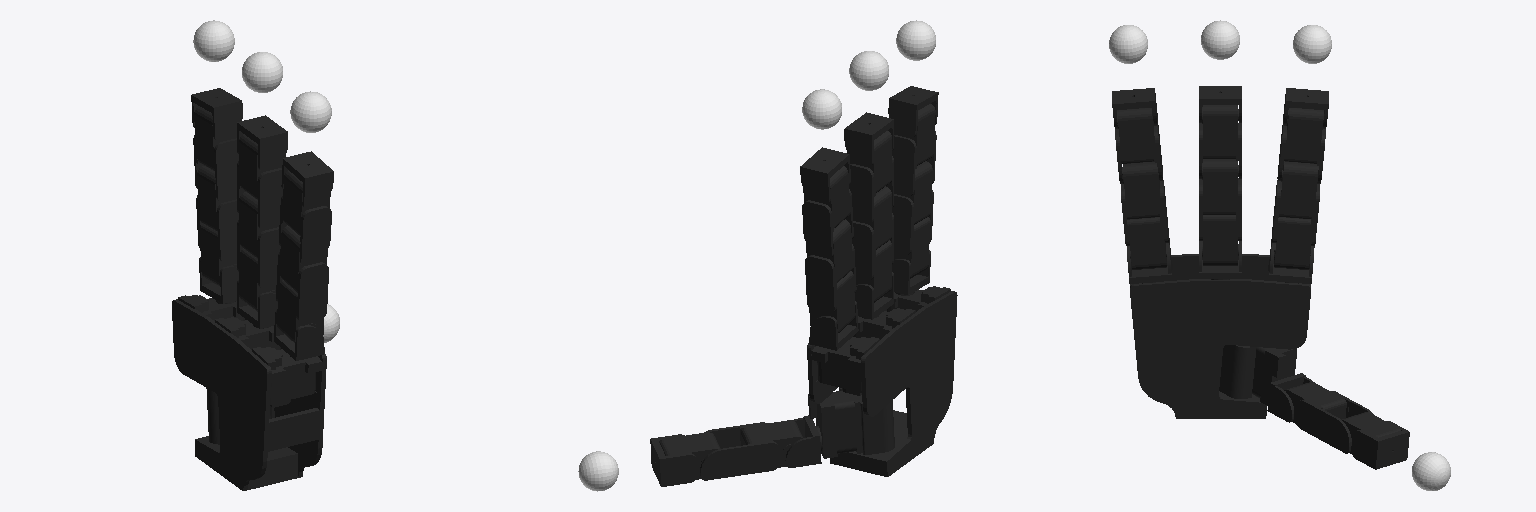
URDF robot description (allegro_hand_right):
<?xml version="1.0" ?>
<!-- =================================================================================== -->
<!-- |    This document was autogenerated by xacro from allegro_hand_description_right.xacro | -->
<!-- |    EDITING THIS FILE BY HAND IS NOT RECOMMENDED                                 | -->
<!-- =================================================================================== -->
<robot name="allegro_hand_right" xmlns:xacro="http://www.ros.org/wiki/xacro">
  <!-- ======================== BASE PARAMS ========================= -->
  <!-- ======================== FINGER PARAMS ======================== -->
  <!-- full height from joint to tip. when used,
the radius of the finger tip sphere will be subtracted
and one fixed link will be added for the tip. -->
  <!--0.0435,   0.044981-->
  <!--0.002298-->
  <!--0.002298-->
  <!-- ========================= THUMB PARAMS ========================= -->
  <!-- ========================= LIMITS ========================= -->
  <!-- ============================================================================= -->
  <!-- BASE -->
  <link name="base_link">
    <visual>
      <geometry>
        <mesh filename="allegro/meshes/allegro/base_link.obj"/>
      </geometry>
      <!-- LEFT -->
      <!-- <origin rpy="${-90*DEG2RAD} 0 0" xyz="0 0 0 "/> -->
      <!-- RIGHT -->
      <origin rpy="0 0 0" xyz="0 0 0 "/>
      <material name="black">
        <color rgba="0.2 0.2 0.2 1"/>
      </material>
    </visual>
    <collision>
      <origin rpy="0 0 0" xyz="-0.009300 0 -0.0475"/>
      <geometry>
        <!-- <box size="0.0408 0.1130 0.095"/> -->
        <box size="0.01 0.01 0.01"/>
      </geometry>
    </collision>
    <inertial>
      <origin xyz="0 0 0.0475" rpy="0 0 0"/>
      <mass value="0.4154"/>
      <inertia
          ixx="1e-4" ixy="0.0" ixz="0.0"
          iyy="1e-4" iyz="0.0"
          izz="1e-4"/>
      </inertial>
  </link>
  <!-- ============================================================================= -->
  <!-- FINGERS -->
  <!-- RIGHT HAND due to which finger is number 0 -->
  <!-- for LEFT HAND switch the sign of the **offset_origin_y** and **finger_angle_r** parameters-->
  <link name="link_0.0">
    <visual>
      <geometry>
        <mesh filename="allegro/meshes/allegro/link_0.0.obj"/>
      </geometry>
      <material name="black"/>
    </visual>
    <collision>
      <geometry>
        <box size="0.0196 0.0275 0.0164"/>
      </geometry>
      <origin rpy="0 0 0" xyz="0 0 0.0082"/>
    </collision>
    <inertial>
      <mass value="0.0119" />
      <origin xyz="0 0 0" rpy="0 0 0"/>
      <inertia ixx="1.01666658333e-06" ixy="0.0" ixz="0.0"
               iyy="6.47677333333e-07" iyz="0.0"
               izz="1.01666658333e-06" />
    </inertial>
  </link>
  <joint name="joint_0.0" type="revolute">
    <axis xyz="0 0 1"/>
    <limit effort="0.35" lower="-0.47" upper="0.47" velocity="6.283"/>
    <parent link="base_link"/>
    <child link="link_0.0"/>
    <origin rpy="-0.08726646255 0 0" xyz="0 0.0435 -0.001542"/>
  </joint>
  <link name="link_1.0">
    <visual>
      <geometry>
        <mesh filename="allegro/meshes/allegro/link_1.0.obj"/>
      </geometry>
      <material name="black"/>
    </visual>
    <collision>
      <geometry>
        <box size="0.0196 0.0275 0.054"/>
      </geometry>
      <origin rpy="0 0 0" xyz="0 0 0.027"/>
    </collision>
    <inertial>
      <mass value="0.065" />
      <origin xyz="0 0 0" rpy="0 0 0"/>
      <inertia ixx="7.95654166667e-05" ixy="1.7199e-05" ixz="8.75875e-06"
               iyy="2.47088833333e-05" iyz="2.413125e-05"
               izz="7.95654166667e-05" />
    </inertial>
  </link>
  <joint name="joint_1.0" type="revolute">
    <limit effort="0.35" lower="-0.196" upper="1.61" velocity="6.283"/>
    <axis xyz="0 1 0"/>
    <parent link="link_0.0"/>
    <child link="link_1.0"/>
    <origin xyz="0 0 0.0164"/>
  </joint>
  <link name="link_2.0">
    <visual>
      <geometry>
        <mesh filename="allegro/meshes/allegro/link_2.0.obj"/>
      </geometry>
      <material name="black"/>
    </visual>
    <collision>
      <geometry>
        <box size="0.0196 0.0275 0.0384"/>
      </geometry>
      <origin rpy="0 0 0" xyz="0 0 0.0192"/>
    </collision>
    <inertial>
      <mass value="0.0355" />
      <origin xyz="0 0 0" rpy="0 0 0"/>
      <inertia ixx="2.63979183333e-05" ixy="6.67968e-06" ixz="4.783625e-06"
               iyy="1.34948516667e-05" iyz="9.372e-06"
               izz="2.63979183333e-05" />
    </inertial>
  </link>
  <joint name="joint_2.0" type="revolute">
    <axis xyz="0 1 0"/>
    <limit effort="0.35" lower="-0.174" upper="1.709" velocity="6.283"/>
    <parent link="link_1.0"/>
    <child link="link_2.0"/>
    <origin xyz="0 0 0.054"/>
  </joint>
  <link name="link_3.0">
    <visual>
      <geometry>
        <mesh filename="allegro/meshes/allegro/link_3.0.obj"/>
      </geometry>
      <material name="black"/>
    </visual>
    <collision>
      <!--
      <geometry>
        <box size="0.0196 0.0275 0.0267"/>
      </geometry>
      -->
      <geometry>
        <sphere radius="0.0001"/>
      </geometry>
      <origin rpy="0 0 0" xyz="0 0 0.01335"/>
    </collision>
    <inertial>
      <mass value="0.0096" />
      <origin xyz="0 0 0" rpy="0 0 0"/>
      <inertia ixx="4.701248e-06" ixy="1.255968e-06" ixz="1.2936e-06"
               iyy="3.649312e-06" iyz="1.7622e-06"
               izz="4.701248e-06" />
    </inertial>
  </link>
  <joint name="joint_3.0" type="revolute">
    <axis xyz="0 1 0"/>
    <limit effort="0.35" lower="-0.227" upper="1.618" velocity="6.283"/>
    <parent link="link_2.0"/>
    <child link="link_3.0"/>
    <origin xyz="0 0 0.0384"/>
  </joint>
  <link name="link_3.0_tip">
    <visual>
      <geometry>
        <sphere radius="0.01235"/>
      </geometry>
      <!-- z: 0.02 0.05 0.035 0.04 0.038 0.0375 0.037-->
      <origin rpy="0 0 0" xyz="0.000 0.000 0.0368" />
      <material name="white">
        <color rgba=".9 .9 .9 1"/>
      </material>
    </visual>
    <collision>
      <geometry>
        <sphere radius="0.01235"/>
      </geometry>
      <!-- z: 0.02 0.05 0.035 0.04 0.038 0.0375 0.037-->
      <origin rpy="0 0 0" xyz="0.000 0.000 0.0368" />
    </collision>
    <inertial>
      <mass value="0.0168" />
      <origin xyz="0 0 0" rpy="0 0 0"/>
      <inertia ixx="9.68e-07" ixy="0" ixz="0"
               iyy="9.68e-07" iyz="0"
               izz="9.68e-07" />
     </inertial>
  </link>
  <joint name="joint_3.0_tip" type="fixed">
    <parent link="link_3.0"/>
    <child link="link_3.0_tip"/>
    <origin rpy="0 0 0" xyz="0 0 0.0147"/>
  </joint>
  <link name="link_4.0">
    <visual>
      <geometry>
        <mesh filename="allegro/meshes/allegro/link_0.0.obj"/>
      </geometry>
      <material name="black"/>
    </visual>
    <collision>
      <geometry>
        <box size="0.0196 0.0275 0.0164"/>
      </geometry>
      <origin rpy="0 0 0" xyz="0 0 0.0082"/>
    </collision>
    <inertial>
      <mass value="0.0119" />
      <origin xyz="0 0 0" rpy="0 0 0"/>
      <inertia ixx="1.01666658333e-06" ixy="0.0" ixz="0.0"
               iyy="6.47677333333e-07" iyz="0.0"
               izz="1.01666658333e-06" />
    </inertial>
  </link>
  <joint name="joint_4.0" type="revolute">
    <axis xyz="0 0 1"/>
    <limit effort="0.35" lower="-0.47" upper="0.47" velocity="6.283"/>
    <parent link="base_link"/>
    <child link="link_4.0"/>
    <origin rpy="0.0 0 0" xyz="0 0 0.0007"/>
  </joint>
  <link name="link_5.0">
    <visual>
      <geometry>
        <mesh filename="allegro/meshes/allegro/link_1.0.obj"/>
      </geometry>
      <material name="black"/>
    </visual>
    <collision>
      <geometry>
        <box size="0.0196 0.0275 0.054"/>
      </geometry>
      <origin rpy="0 0 0" xyz="0 0 0.027"/>
    </collision>
    <inertial>
      <mass value="0.065" />
      <origin xyz="0 0 0" rpy="0 0 0"/>
      <inertia ixx="7.95654166667e-05" ixy="1.7199e-05" ixz="8.75875e-06"
               iyy="2.47088833333e-05" iyz="2.413125e-05"
               izz="7.95654166667e-05" />
    </inertial>
  </link>
  <joint name="joint_5.0" type="revolute">
    <limit effort="0.35" lower="-0.196" upper="1.61" velocity="6.283"/>
    <axis xyz="0 1 0"/>
    <parent link="link_4.0"/>
    <child link="link_5.0"/>
    <origin xyz="0 0 0.0164"/>
  </joint>
  <link name="link_6.0">
    <visual>
      <geometry>
        <mesh filename="allegro/meshes/allegro/link_2.0.obj"/>
      </geometry>
      <material name="black"/>
    </visual>
    <collision>
      <geometry>
        <box size="0.0196 0.0275 0.0384"/>
      </geometry>
      <origin rpy="0 0 0" xyz="0 0 0.0192"/>
    </collision>
    <inertial>
      <mass value="0.0355" />
      <origin xyz="0 0 0" rpy="0 0 0"/>
      <inertia ixx="2.63979183333e-05" ixy="6.67968e-06" ixz="4.783625e-06"
               iyy="1.34948516667e-05" iyz="9.372e-06"
               izz="2.63979183333e-05" />
    </inertial>
  </link>
  <joint name="joint_6.0" type="revolute">
    <axis xyz="0 1 0"/>
    <limit effort="0.35" lower="-0.174" upper="1.709" velocity="6.283"/>
    <parent link="link_5.0"/>
    <child link="link_6.0"/>
    <origin xyz="0 0 0.054"/>
  </joint>
  <link name="link_7.0">
    <visual>
      <geometry>
        <mesh filename="allegro/meshes/allegro/link_3.0.obj"/>
      </geometry>
      <material name="black"/>
    </visual>
    <collision>
      <!--
      <geometry>
        <box size="0.0196 0.0275 0.0267"/>
      </geometry>
      -->
      <geometry>
        <sphere radius="0.0001"/>
      </geometry>
    </collision>
    <inertial>
      <mass value="0.0096" />
      <origin xyz="0 0 0" rpy="0 0 0"/>
      <inertia ixx="4.701248e-06" ixy="1.255968e-06" ixz="1.2936e-06"
               iyy="3.649312e-06" iyz="1.7622e-06"
               izz="4.701248e-06" />
    </inertial>
  </link>
  <joint name="joint_7.0" type="revolute">
    <axis xyz="0 1 0"/>
    <limit effort="0.35" lower="-0.227" upper="1.618" velocity="6.283"/>
    <parent link="link_6.0"/>
    <child link="link_7.0"/>
    <origin xyz="0 0 0.0384"/>
  </joint>
  <link name="link_7.0_tip">
    <visual>
      <geometry>
        <sphere radius="0.01235"/>
      </geometry>
      <!-- z: 0.02 0.05 0.035 0.04 0.038 0.0375 0.037-->
      <origin rpy="0 0 0" xyz="0.000 0.000 0.0368" />
      <material name="white">
        <color rgba=".9 .9 .9 1"/>
      </material>
    </visual>
    <collision>
      <geometry>
        <sphere radius="0.01235"/>
      </geometry>
      <!-- z: 0.02 0.05 0.035 0.04 0.038 0.0375 0.037-->
      <origin rpy="0 0 0" xyz="0.000 0.000 0.0368" />
    </collision>
    <inertial>
      <mass value="0.0168" />
      <origin xyz="0 0 0" rpy="0 0 0"/>
      <inertia ixx="9.68e-07" ixy="0" ixz="0"
               iyy="9.68e-07" iyz="0"
               izz="9.68e-07" />
     </inertial>
  </link>
  <joint name="joint_7.0_tip" type="fixed">
    <parent link="link_7.0"/>
    <child link="link_7.0_tip"/>
    <origin rpy="0 0 0" xyz="0 0 0.0147"/>
  </joint>
  <link name="link_8.0">
    <visual>
      <geometry>
        <mesh filename="allegro/meshes/allegro/link_0.0.obj"/>
      </geometry>
      <material name="black"/>
    </visual>
    <collision>
      <geometry>
        <box size="0.0196 0.0275 0.0164"/>
      </geometry>
      <origin rpy="0 0 0" xyz="0 0 0.0082"/>
    </collision>
    <inertial>
      <mass value="0.0119" />
      <origin xyz="0 0 0" rpy="0 0 0"/>
      <inertia ixx="1.01666658333e-06" ixy="0.0" ixz="0.0"
               iyy="6.47677333333e-07" iyz="0.0"
               izz="1.01666658333e-06" />
    </inertial>
  </link>
  <joint name="joint_8.0" type="revolute">
    <axis xyz="0 0 1"/>
    <limit effort="0.35" lower="-0.47" upper="0.47" velocity="6.283"/>
    <parent link="base_link"/>
    <child link="link_8.0"/>
    <origin rpy="0.08726646255 0 0" xyz="0 -0.0435 -0.001542"/>
  </joint>
  <link name="link_9.0">
    <visual>
      <geometry>
        <mesh filename="allegro/meshes/allegro/link_1.0.obj"/>
      </geometry>
      <material name="black"/>
    </visual>
    <collision>
      <geometry>
        <box size="0.0196 0.0275 0.054"/>
      </geometry>
      <origin rpy="0 0 0" xyz="0 0 0.027"/>
    </collision>
    <inertial>
      <mass value="0.065" />
      <origin xyz="0 0 0" rpy="0 0 0"/>
      <inertia ixx="7.95654166667e-05" ixy="1.7199e-05" ixz="8.75875e-06"
               iyy="2.47088833333e-05" iyz="2.413125e-05"
               izz="7.95654166667e-05" />
    </inertial>
  </link>
  <joint name="joint_9.0" type="revolute">
    <limit effort="0.35" lower="-0.196" upper="1.61" velocity="6.283"/>
    <axis xyz="0 1 0"/>
    <parent link="link_8.0"/>
    <child link="link_9.0"/>
    <origin xyz="0 0 0.0164"/>
  </joint>
  <link name="link_10.0">
    <visual>
      <geometry>
        <mesh filename="allegro/meshes/allegro/link_2.0.obj"/>
      </geometry>
      <material name="black"/>
    </visual>
    <collision>
      <geometry>
        <box size="0.0196 0.0275 0.0384"/>
      </geometry>
      <origin rpy="0 0 0" xyz="0 0 0.0192"/>
    </collision>
    <inertial>
      <mass value="0.0355" />
      <origin xyz="0 0 0" rpy="0 0 0"/>
      <inertia ixx="2.63979183333e-05" ixy="6.67968e-06" ixz="4.783625e-06"
               iyy="1.34948516667e-05" iyz="9.372e-06"
               izz="2.63979183333e-05" />
    </inertial>
  </link>
  <joint name="joint_10.0" type="revolute">
    <axis xyz="0 1 0"/>
    <limit effort="0.35" lower="-0.174" upper="1.709" velocity="6.283"/>
    <parent link="link_9.0"/>
    <child link="link_10.0"/>
    <origin xyz="0 0 0.054"/>
  </joint>
  <link name="link_11.0">
    <visual>
      <geometry>
        <mesh filename="allegro/meshes/allegro/link_3.0.obj"/>
      </geometry>
      <material name="black"/>
    </visual>
    <collision>
      <!--
      <geometry>
        <box size="0.0196 0.0275 0.0267"/>
      </geometry>
      -->
      <geometry>
        <sphere radius="0.0001"/>
      </geometry>
    </collision>
    <inertial>
      <mass value="0.0096" />
      <origin xyz="0 0 0" rpy="0 0 0"/>
      <inertia ixx="4.701248e-06" ixy="1.255968e-06" ixz="1.2936e-06"
               iyy="3.649312e-06" iyz="1.7622e-06"
               izz="4.701248e-06" />
    </inertial>
  </link>
  <joint name="joint_11.0" type="revolute">
    <axis xyz="0 1 0"/>
    <limit effort="0.35" lower="-0.227" upper="1.618" velocity="6.283"/>
    <parent link="link_10.0"/>
    <child link="link_11.0"/>
    <origin xyz="0 0 0.0384"/>
  </joint>
  <link name="link_11.0_tip">
    <visual>
      <geometry>
        <sphere radius="0.01235"/>
      </geometry>
      <!-- z: 0.02 0.05 0.035 0.04 0.038 0.0375 0.037-->
      <origin rpy="0 0 0" xyz="0.000 0.000 0.0368" />
      <material name="white">
        <color rgba=".9 .9 .9 1"/>
      </material>
    </visual>
    <collision>
      <geometry>
        <sphere radius="0.01235"/>
      </geometry>
      <!-- z: 0.02 0.05 0.035 0.04 0.038 0.0375 0.037-->
      <origin rpy="0 0 0" xyz="0.000 0.000 0.0368" />
    </collision>
    <inertial>
      <mass value="0.0168" />
      <origin xyz="0 0 0" rpy="0 0 0"/>
      <inertia ixx="9.68e-07" ixy="0" ixz="0"
               iyy="9.68e-07" iyz="0"
               izz="9.68e-07" />
     </inertial>
  </link>
  <joint name="joint_11.0_tip" type="fixed">
    <parent link="link_11.0"/>
    <child link="link_11.0_tip"/>
    <origin rpy="0 0 0" xyz="0 0 0.0147"/>
  </joint>
  <!-- THUMB -->
  <link name="link_12.0">
    <visual>
      <geometry>
        <!-- RIGHT -->
        <mesh filename="allegro/meshes/allegro/link_12.0_right.obj"/>
        <!-- LEFT -->
        <!-- <mesh filename="package://allegro_hand_description/meshes/link_12.0_left.STL" /> -->
      </geometry>
      <material name="black">
        <color rgba=".2 .2 .2 1"/>
      </material>
      <!-- <origin rpy="3.1415926518 0 0" xyz="0 0 0"/> -->
    </visual>
    <collision>
      <geometry>
        <box size="0.0358 0.034 0.0455"/>
      </geometry>
      <!-- RIGHT -->
      <origin rpy="0 0 0" xyz="-0.0179 0.009 0.0145"/>
      <!-- LEFT -->
      <!-- <origin rpy="0 0 0" xyz="${-0.0358/2+0.0} ${-.018/2} ${.029/2}"/> -->
    </collision>
    <inertial>
      <mass value="0.0176" />
      <origin xyz="0 0 0" rpy="0 0 0"/>
      <inertia ixx="1.89273333333e-5" ixy="7.16716e-06" ixz="5.35568e-06"
               iyy="1.43008213333e-05" iyz="6.8068e-06"
               izz="1.89273333333e-05" />
    </inertial>
  </link>
  <joint name="joint_12.0" type="revolute">
    <axis xyz="-1 0 0"/>
    <limit effort="0.35" lower="0.263" upper="1.396" velocity="6.283"/>
    <parent link="base_link"/>
    <child link="link_12.0"/>
    <origin rpy="0 -1.65806278845 -1.5707963259" xyz="-0.0182 0.019333 -0.045987"/>
  </joint>
  <link name="link_13.0">
    <visual>
      <geometry>
        <mesh filename="allegro/meshes/allegro/link_13.0.obj"/>
      </geometry>
      <material name="black">
        <color rgba=".2 .2 .2 1"/>
      </material>
    </visual>
    <collision>
      <geometry>
        <box size="0.0196 0.0275 0.0177"/>
      </geometry>
      <origin rpy="0 0 0" xyz="0 0 0.00885"/>
    </collision>
    <inertial>
      <mass value="0.0119" />
      <origin xyz="0 0 0" rpy="0 0 0"/>
      <inertia ixx="4.24250866667e-06" ixy="1.032087e-06" ixz="1.603525e-06"
               iyy="4.52362633333e-06" iyz="1.44808125e-06"
               izz="4.24250866667e-06" />
    </inertial>
  </link>
  <joint name="joint_13.0" type="revolute">
    <axis xyz="0 0 1"/>
    <limit effort="0.35" lower="-0.105" upper="1.163" velocity="6.283"/>
    <parent link="link_12.0"/>
    <child link="link_13.0"/>
    <!-- RIGHT -->
    <origin xyz="-0.027 0.005 0.0399"/>
    <!-- LEFT -->
    <!-- <origin xyz="-0.027 -0.005 0.0399"/> -->
  </joint>
  <link name="link_14.0">
    <visual>
      <geometry>
        <mesh filename="allegro/meshes/allegro/link_14.0.obj"/>
      </geometry>
      <material name="black">
      </material>
    </visual>
    <collision>
      <geometry>
        <box size="0.0196 0.0275 0.0514"/>
      </geometry>
      <origin rpy="0 0 0" xyz="0 0 0.0257"/>
    </collision>
    <inertial>
      <mass value="0.038" />
      <origin xyz="0 0 0" rpy="0 0 0"/>
      <inertia ixx="4.30439933333e-05" ixy="9.57068e-06" ixz="5.1205e-06" iyy="1.44451933333e-05"
               iyz="1.342825e-05" izz="4.30439933333e-05" />
    </inertial>
  </link>
  <joint name="joint_14.0" type="revolute">
    <axis xyz="0 1 0"/>
    <limit effort="0.35" lower="-0.189" upper="1.644" velocity="6.283"/>
    <parent link="link_13.0"/>
    <child link="link_14.0"/>
    <origin xyz="0 0 0.0177"/>
  </joint>
  <link name="link_15.0">
    <visual>
      <geometry>
        <mesh filename="allegro/meshes/allegro/link_15.0.obj"/>
      </geometry>
      <material name="black">
    	</material>
    </visual>
    <collision>
      <!--
      <geometry>
        <box size="0.0196 0.0275 0.0423"/>
      </geometry>
      -->
      <geometry>
        <sphere radius="0.0001"/>
      </geometry>
      <origin rpy="0 0 0" xyz="0 0 0.02115"/>
    </collision>
    <inertial>
      <mass value="0.0388" />
      <origin xyz="0 0 0" rpy="0 0 0"/>
      <inertia ixx="3.29223173333e-05" ixy="8.042076e-06" ixz="5.2283e-06"
               iyy="1.47493026667e-5" iyz="1.1283525e-5"
               izz="3.29223173333e-05" />
    </inertial>
  </link>
  <joint name="joint_15.0" type="revolute">
    <axis xyz="0 1 0"/>
    <limit effort="0.35" lower="-0.162" upper="1.719" velocity="6.283"/>
    <parent link="link_14.0"/>
    <child link="link_15.0"/>
    <origin xyz="0 0 0.0514"/>
  </joint>
  <link name="link_15.0_tip">
    <visual>
      <geometry>
        <sphere radius="0.01235"/>
      </geometry>
      <!-- z: 0.02 0.05 0.035 0.04 0.038 0.0375 0.037-->
      <origin rpy="0 0 0" xyz="0.000 0.000 0.0368" />
      <material name="white">
        <color rgba=".9 .9 .9 1"/>
      </material>
    </visual>
    <collision>
      <geometry>
        <sphere radius="0.01235"/>
      </geometry>
      <!-- z: 0.02 0.05 0.035 0.04 0.038 0.0375 0.037-->
      <origin rpy="0 0 0" xyz="0.000 0.000 0.0368" />
    </collision>
    <inertial>
      <mass value="0.0168" />
      <origin xyz="0 0 0" rpy="0 0 0"/>
      <inertia ixx="9.68e-07" ixy="0" ixz="0"
               iyy="9.68e-07" iyz="0"
               izz="9.68e-07" />
     </inertial>
  </link>
  <joint name="joint_15.0_tip" type="fixed">
    <parent link="link_15.0"/>
    <child link="link_15.0_tip"/>
    <origin rpy="0 0 0" xyz="0 0 0.0303"/>
    <!--0.0267000000000005-->
  </joint>
  <!--
<xacro:thumb_left
	finger_num=			"3"
	offset_origin_x=	"-0.0182"
	offset_origin_y=	"-0.019333"
	offset_origin_z=	"-0.045987"


	finger_angle_r=		"${90*DEG2RAD}"
	finger_angle_p=		"-${95*DEG2RAD}"
	finger_angle_y=		"${90*DEG2RAD}"
/>
-->
  <!-- ============================================================================= -->
  <!-- ============================================================================= -->
  <!-- ============================================================================= -->
  <!-- THUMB MACRO -->
  <!-- END THUMB MACRO -->
  <!-- THREE FINGER MACRO -->
  <!-- [[END]] THREE FINGER MACRO -->
</robot>

--- Render facts (derived) ---
3 views of the same robot in one strip: view 1: azimuth 30°, elevation 25°; view 2: azimuth 150°, elevation 25°; view 3: azimuth 270°, elevation 25° (orthographic).
Model allegro_hand_right with 21 links and 20 joints (16 revolute, 4 fixed), rooted at base_link, posed all joints at 0 but 1 set to mid-range because 0 is outside their limits (joint_12.0 = 0.8295).
Visible links, largest first — view 1: base_link, link_9.0, link_5.0, link_1.0, link_10.0, link_6.0, link_2.0, link_11.0, link_7.0, link_3.0, link_7.0_tip, link_11.0_tip (+5 smaller); view 2: base_link, link_14.0, link_12.0, link_1.0, link_9.0, link_5.0, link_15.0, link_2.0, link_10.0, link_6.0, link_3.0, link_7.0 (+9 smaller); view 3: base_link, link_1.0, link_9.0, link_5.0, link_12.0, link_14.0, link_15.0, link_2.0, link_10.0, link_6.0, link_7.0_tip, link_15.0_tip (+9 smaller).
Link boxes in pixels (box(x1,y1,x2,y2)): base_link: box(172, 295, 326, 490); link_9.0: box(276, 225, 328, 342); link_5.0: box(237, 192, 280, 311); link_1.0: box(196, 166, 238, 285); link_10.0: box(279, 170, 331, 265); link_6.0: box(237, 134, 285, 229); link_2.0: box(193, 106, 238, 201); link_11.0: box(281, 151, 333, 209); link_7.0: box(237, 115, 287, 171); link_3.0: box(191, 88, 242, 140); link_7.0_tip: box(242, 52, 282, 92); link_11.0_tip: box(290, 91, 331, 132); base_link: box(807, 286, 957, 476); link_14.0: box(700, 420, 802, 480); link_12.0: box(808, 387, 894, 458); link_1.0: box(805, 219, 856, 332); link_9.0: box(892, 161, 933, 278); link_5.0: box(852, 186, 893, 302); link_15.0: box(650, 432, 720, 486); link_2.0: box(802, 166, 853, 258); link_10.0: box(892, 104, 936, 195); link_6.0: box(847, 131, 893, 223); link_3.0: box(800, 147, 850, 203); link_7.0: box(844, 112, 893, 166); base_link: box(1130, 254, 1310, 418); link_1.0: box(1272, 161, 1319, 269); link_9.0: box(1121, 162, 1168, 269); link_5.0: box(1199, 159, 1241, 265); link_12.0: box(1219, 345, 1296, 405); link_14.0: box(1284, 382, 1373, 453); link_15.0: box(1341, 412, 1409, 469); link_2.0: box(1277, 108, 1325, 183); link_10.0: box(1115, 108, 1162, 183); link_6.0: box(1199, 105, 1241, 178); link_7.0_tip: box(1201, 20, 1239, 59); link_15.0_tip: box(1412, 452, 1450, 490).
Size in the robot's own frame: 0.1569 by 0.2139 by 0.2686 metres.
Meshes: 9 distinct files referenced, 17 mesh visuals loaded (9 OBJ).